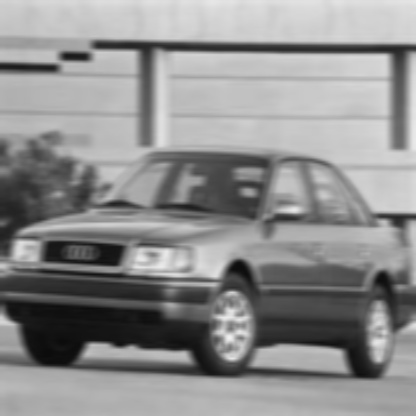Vehicle: (1, 146, 414, 375)
